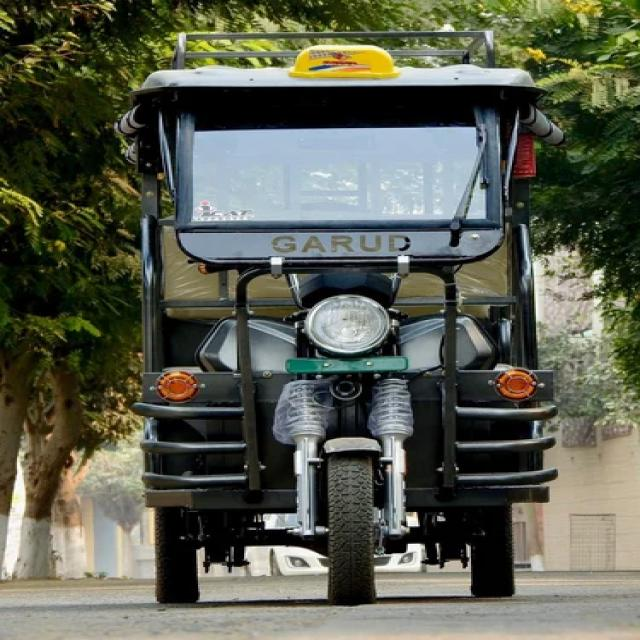Vehicles: (97, 18, 578, 640)
